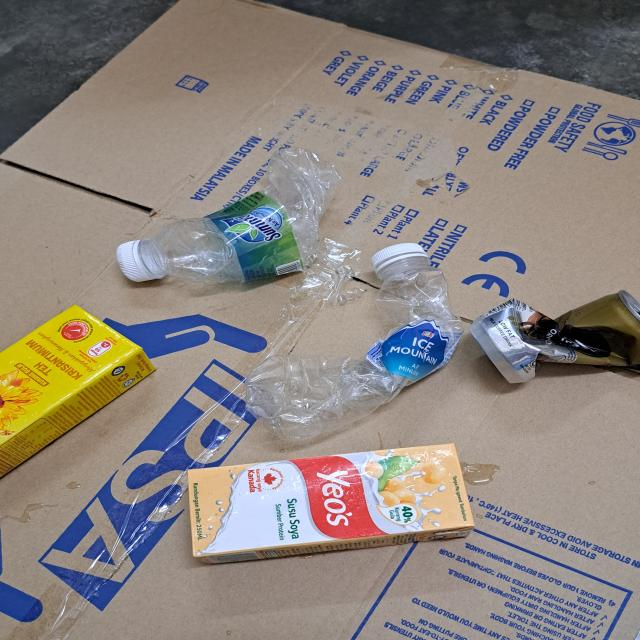can: (469, 291, 640, 382)
cardboard: (0, 0, 640, 640)
drink carton: (183, 440, 477, 562), (0, 305, 155, 481)
plastic bottle: (248, 243, 462, 439), (117, 142, 335, 290)
plastic bottle cap: (119, 237, 169, 283), (374, 243, 430, 274)
